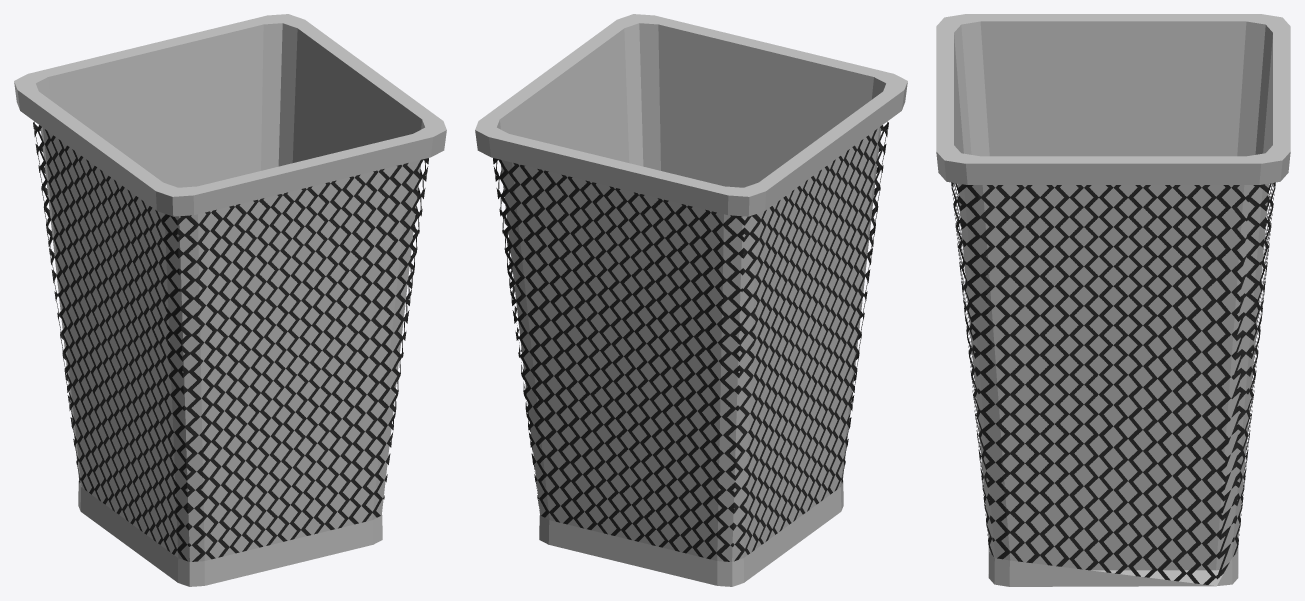
The model's file is SquareTrashCan_LOD0.fbx.
3 views of the same model, side by side, from view 1: azimuth 30°, elevation 25°; view 2: azimuth 150°, elevation 25°; view 3: azimuth 270°, elevation 25° (orthographic). The views are drawn at different scales.
Visible parts, largest first — view 1: Cube; view 2: Cube; view 3: Cube.
Boxes of the visible parts, box(x1,y1,x2,y2) form: Cube: box(14, 14, 446, 586); Cube: box(475, 14, 907, 586); Cube: box(936, 14, 1290, 586).
Size of the model in its own units: 72 by 99.8 by 72.
